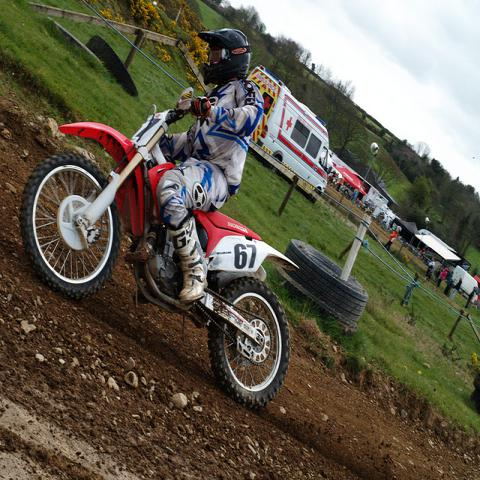motorcycle: (22, 90, 292, 407)
truck: (246, 64, 329, 194), (452, 266, 478, 303)
